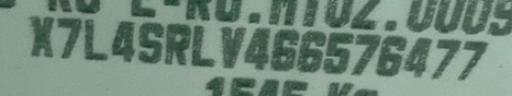letter: (454, 37, 492, 82), (294, 26, 328, 73), (429, 35, 463, 82), (401, 32, 435, 78), (320, 28, 354, 73), (374, 32, 408, 76), (268, 26, 300, 72), (26, 13, 56, 62), (162, 20, 192, 68), (351, 29, 381, 76), (188, 22, 218, 68), (219, 24, 249, 70), (136, 19, 166, 64), (55, 15, 83, 62), (110, 17, 138, 64), (242, 24, 270, 70), (82, 17, 110, 62)
